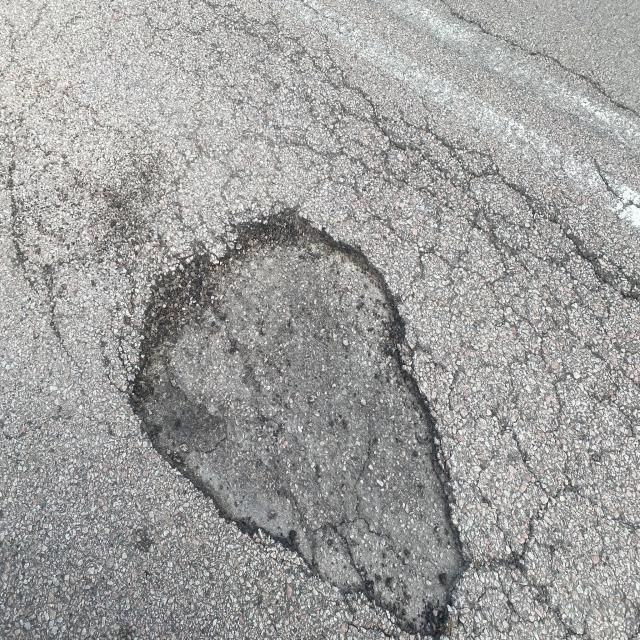Pothole: (111, 158, 491, 640)
